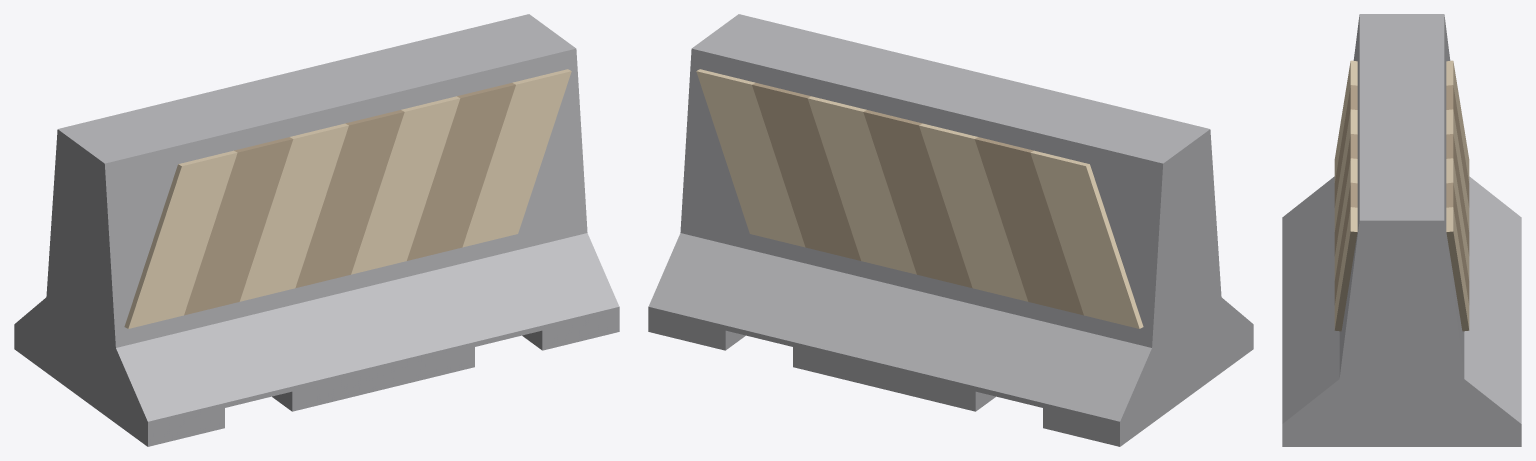
File: building.barrier.glb
3 renders of one model, left to right at view 1: azimuth 30°, elevation 25°; view 2: azimuth 150°, elevation 25°; view 3: azimuth 270°, elevation 25°, orthographic. The views are drawn at different scales.
Parts seen in each view (by area): view 1: Stone, Paint, PaintDark; view 2: Stone, Paint, PaintDark; view 3: Stone, Paint, PaintDark.
Part boxes in pixels (bbox=[...]): Stone: bbox=[14, 14, 619, 446]; Paint: bbox=[124, 69, 571, 328]; PaintDark: bbox=[184, 83, 515, 315]; Stone: bbox=[648, 14, 1253, 446]; Paint: bbox=[696, 69, 1143, 328]; PaintDark: bbox=[752, 83, 1083, 315]; Stone: bbox=[1282, 14, 1521, 446]; Paint: bbox=[1334, 60, 1469, 331]; PaintDark: bbox=[1334, 85, 1469, 304].
Size of the model in its own units: 0.98 by 0.5 by 0.48.
